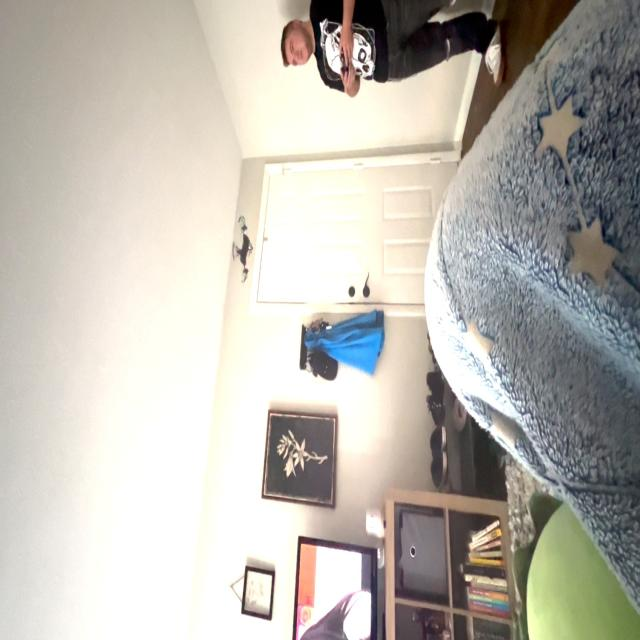drone: (224, 195, 254, 292)
